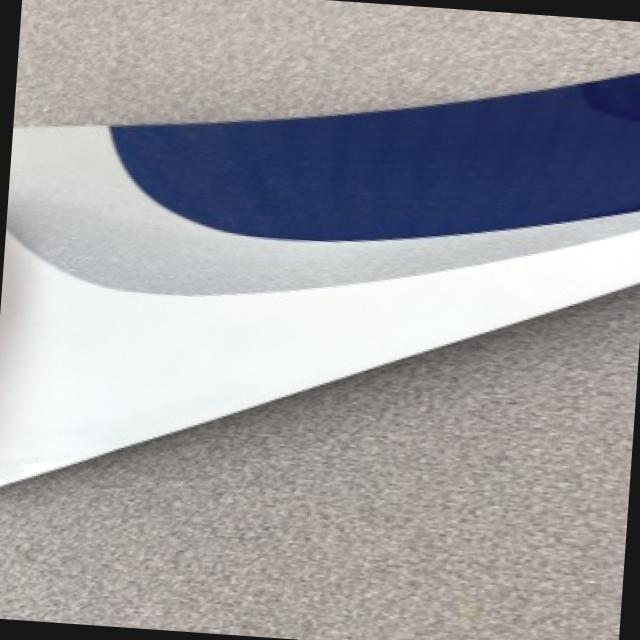healthy: (0, 0, 640, 480)
